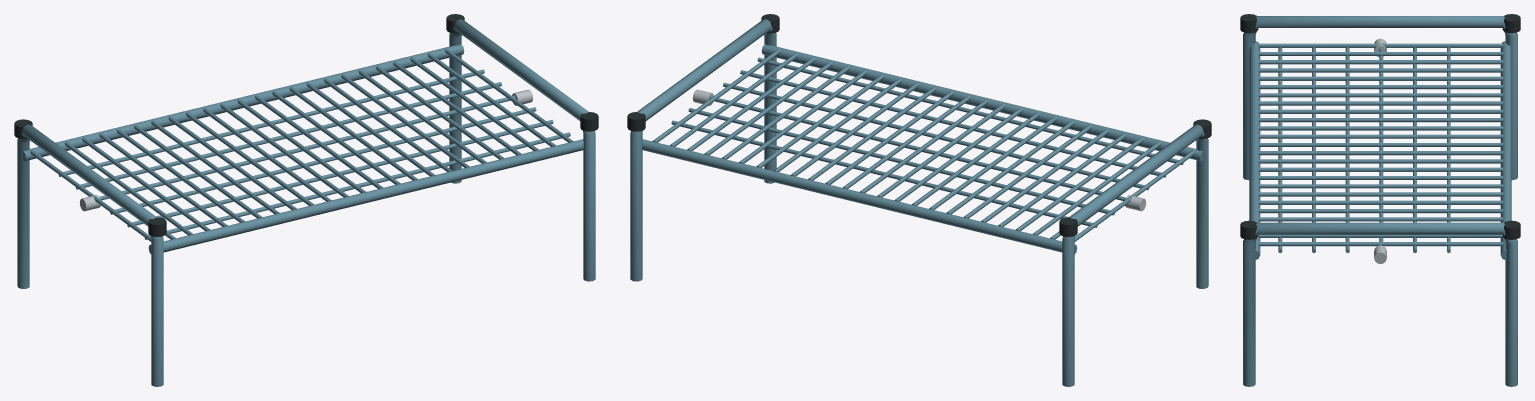
File: stackable-shoe-rack.glb
3 views of the same model, side by side, from view 1: azimuth 30°, elevation 25°; view 2: azimuth 150°, elevation 25°; view 3: azimuth 270°, elevation 25° (orthographic).
Parts seen in each view (by area): view 1: stackable-shoe-rack authored assembly; view 2: stackable-shoe-rack authored assembly; view 3: stackable-shoe-rack authored assembly.
Boxes of the visible parts, bbox=[...] form: stackable-shoe-rack authored assembly: bbox=[14, 14, 598, 386]; stackable-shoe-rack authored assembly: bbox=[627, 14, 1211, 386]; stackable-shoe-rack authored assembly: bbox=[1240, 14, 1520, 386].
Bounding box in the file's own units: 0.56 × 0.197 × 0.31.
